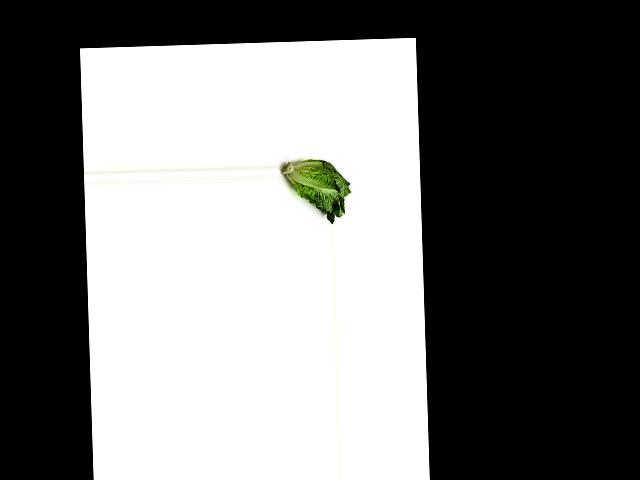lettuce: (284, 156, 354, 224)
